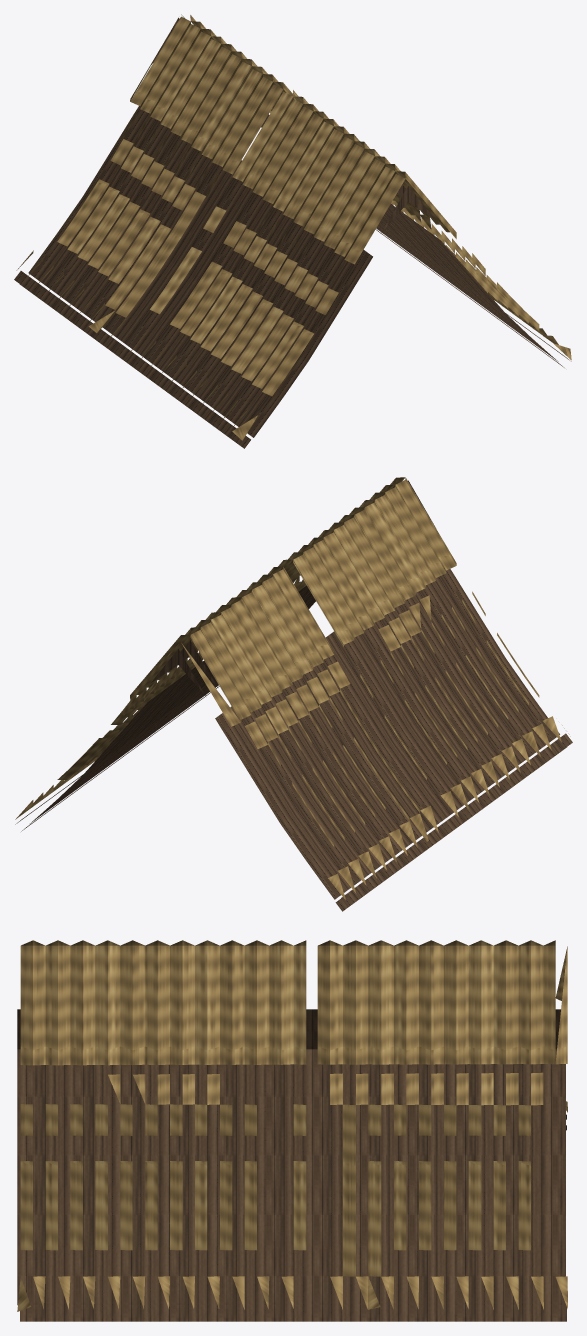
The model's file is Roof_Thatch_8x10_LOD1.gltf.
3 renders of one model, top to bottom at view 1: azimuth 30°, elevation 25°; view 2: azimuth 150°, elevation 25°; view 3: azimuth 270°, elevation 25°, orthographic. The views are drawn at different scales.
Parts seen in each view (by area): view 1: Roof_Thatch_8x10_LOD1; view 2: Roof_Thatch_8x10_LOD1; view 3: Roof_Thatch_8x10_LOD1.
Boxes of the visible parts, left/top/right/bottom form: Roof_Thatch_8x10_LOD1: left=14, top=14, right=571, bottom=448; Roof_Thatch_8x10_LOD1: left=15, top=477, right=572, bottom=911; Roof_Thatch_8x10_LOD1: left=17, top=940, right=567, bottom=1321.
Bounding box in the file's own units: 9.95 × 6.54 × 11.71.
Materials: 2 (2 with a texture image).
